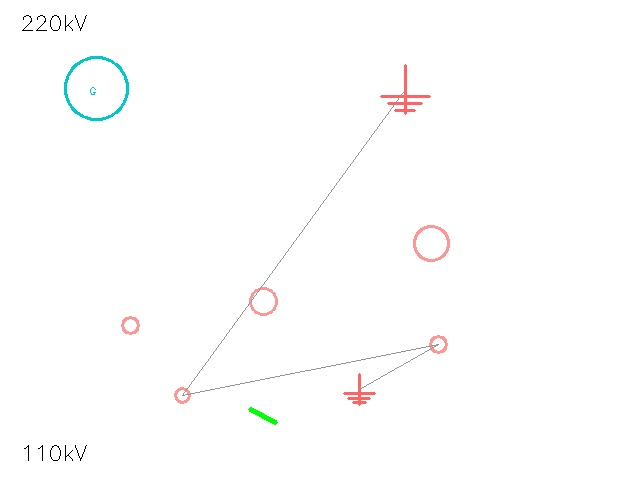busbar: (245, 398, 281, 434)
feeder_terminal: (114, 309, 146, 341)
generator: (65, 57, 127, 119)
ground: (381, 65, 429, 113), (344, 374, 374, 404)
load_break_switch: (236, 274, 290, 328)
reactor: (397, 209, 465, 277)
surge_arrester: (167, 380, 197, 410)
voltage_transformer: (421, 327, 455, 361)
